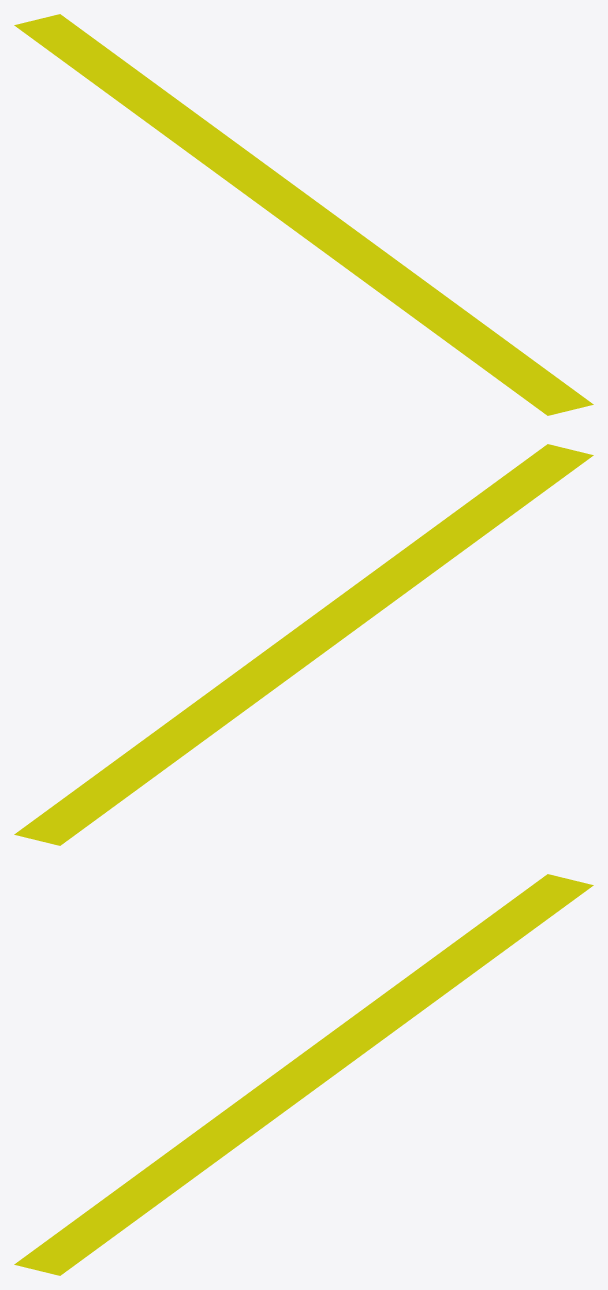
The model's file is 黃實線.FBX.
3 renders of one model, top to bottom at view 1: azimuth 30°, elevation 25°; view 2: azimuth 150°, elevation 25°; view 3: azimuth 330°, elevation 25°, orthographic.
Visible parts, largest first — view 1: Plane001; view 2: Plane001; view 3: Plane001.
Boxes of the visible parts, bbox=[...] form: Plane001: bbox=[14, 14, 593, 415]; Plane001: bbox=[14, 444, 593, 845]; Plane001: bbox=[14, 874, 593, 1275].
Bounding box in the file's own units: 10 × 1.22e-14 × 200.
